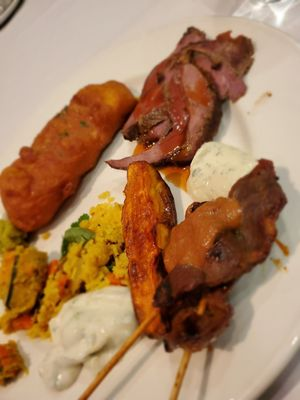curry: (0, 9, 299, 399)
